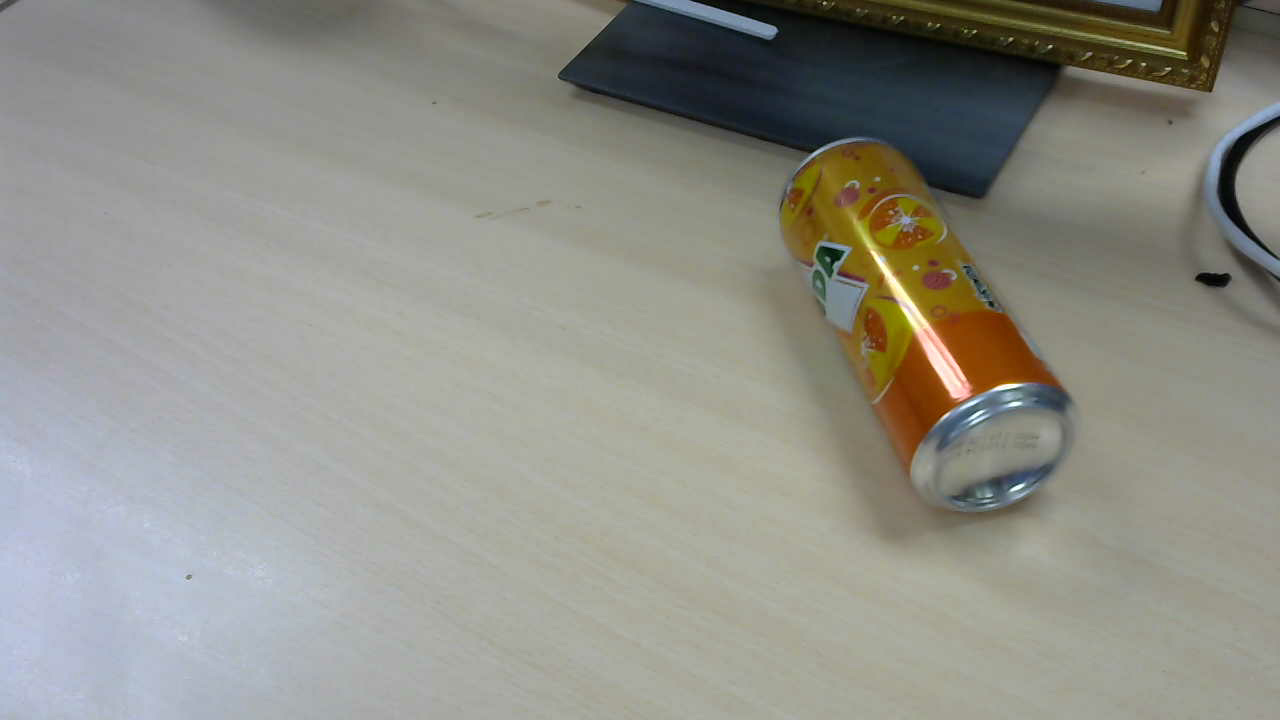Mirinda: (785, 142, 1082, 512)
